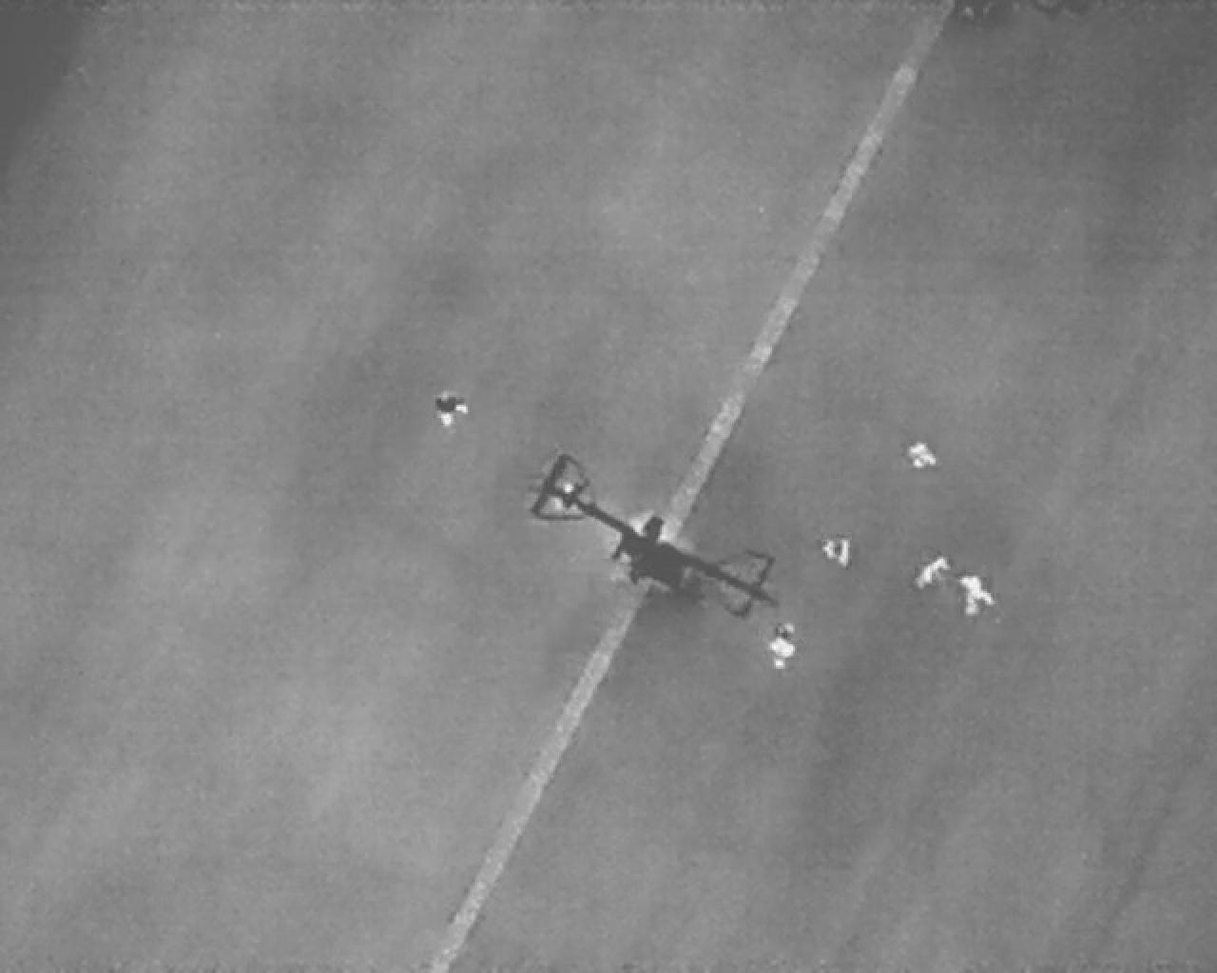person: (906, 546, 959, 600), (765, 615, 803, 676), (431, 387, 473, 430), (959, 571, 995, 617), (822, 531, 855, 573), (906, 440, 938, 474)
